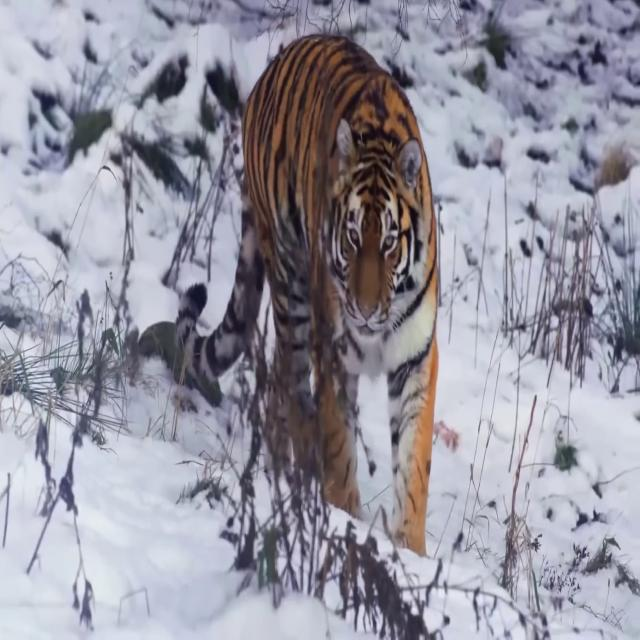tiger: (175, 30, 439, 558)
